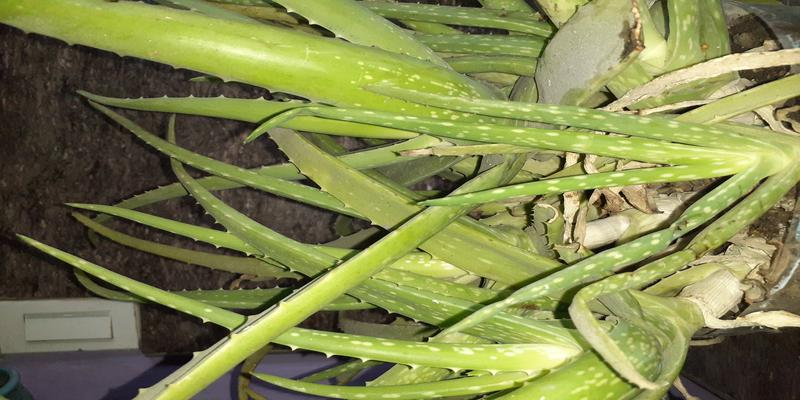Aloevera: (221, 4, 770, 373)
